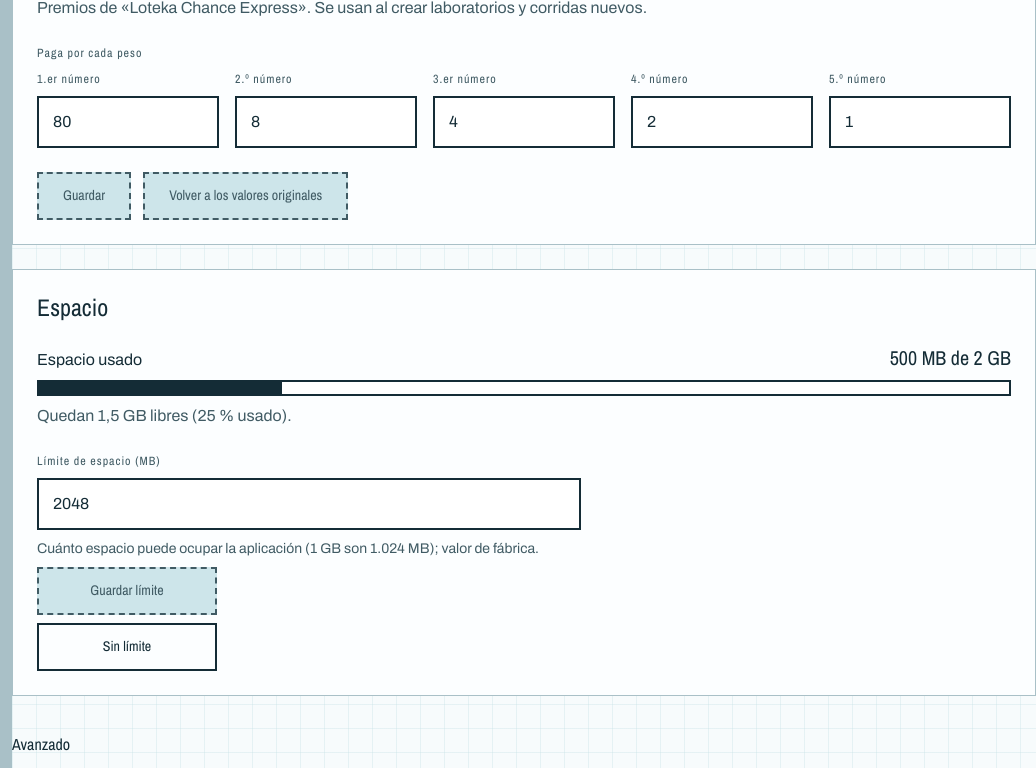
Test: settings page › rejects invalid quota drafts without sending and never claims success on network failure
(page scrolled)
Replace the text in the field labelled "Límite de espacio (MB)" with "abc" at [309, 504], box 37,478 -> 581,530
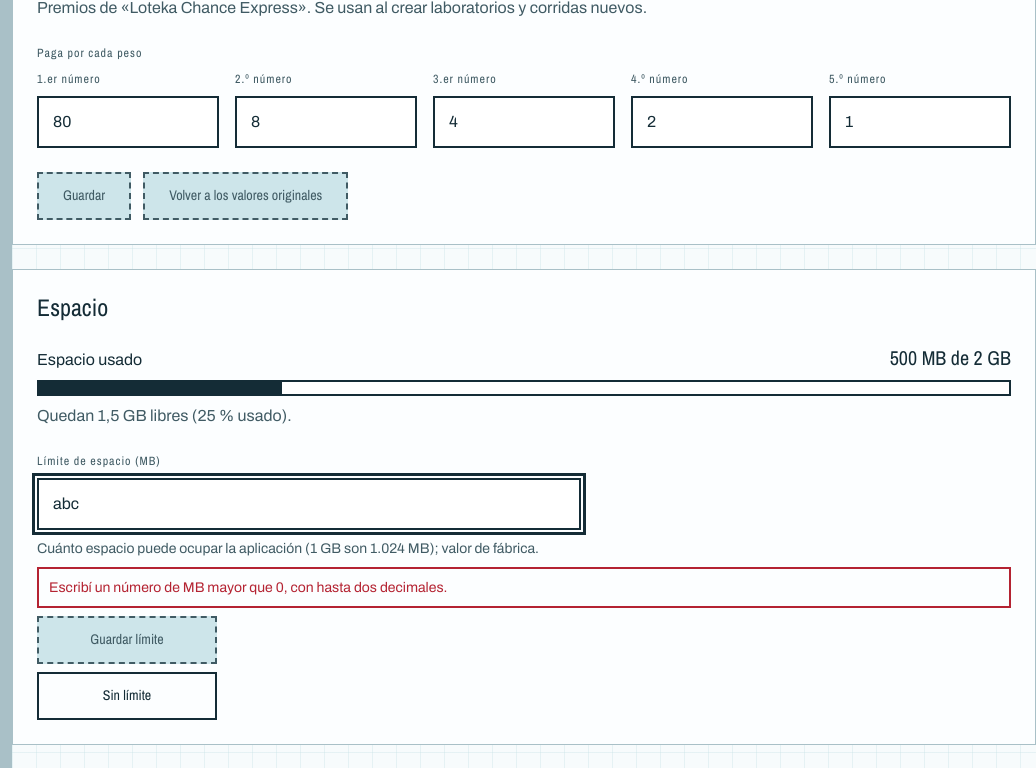
Expected: the button "Guardar límite" is disabled, 37,616 -> 217,664
Expected: the text "Escribí un número de MB mayor que 0, con hasta dos decimales." is shown, 37,567 -> 1011,608
Replace the text in the field labelled "Límite de espacio (MB)" with "1234" at [309, 504], box 37,478 -> 581,530
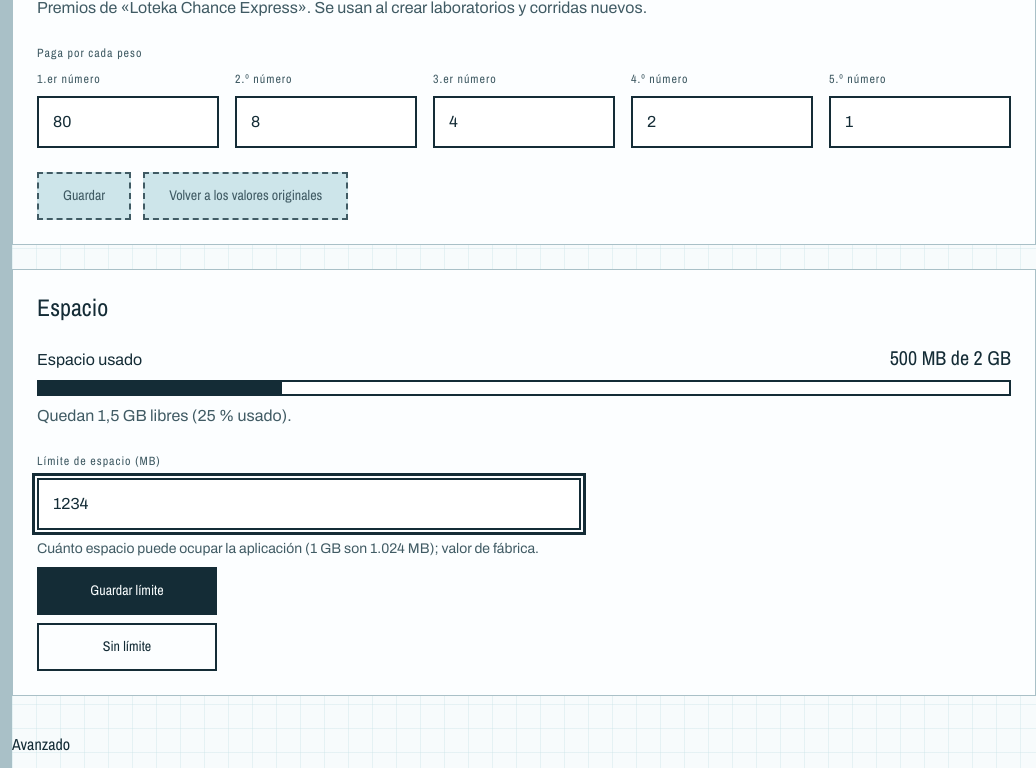
Click the button "Guardar límite" at [127, 591], box 37,567 -> 217,615
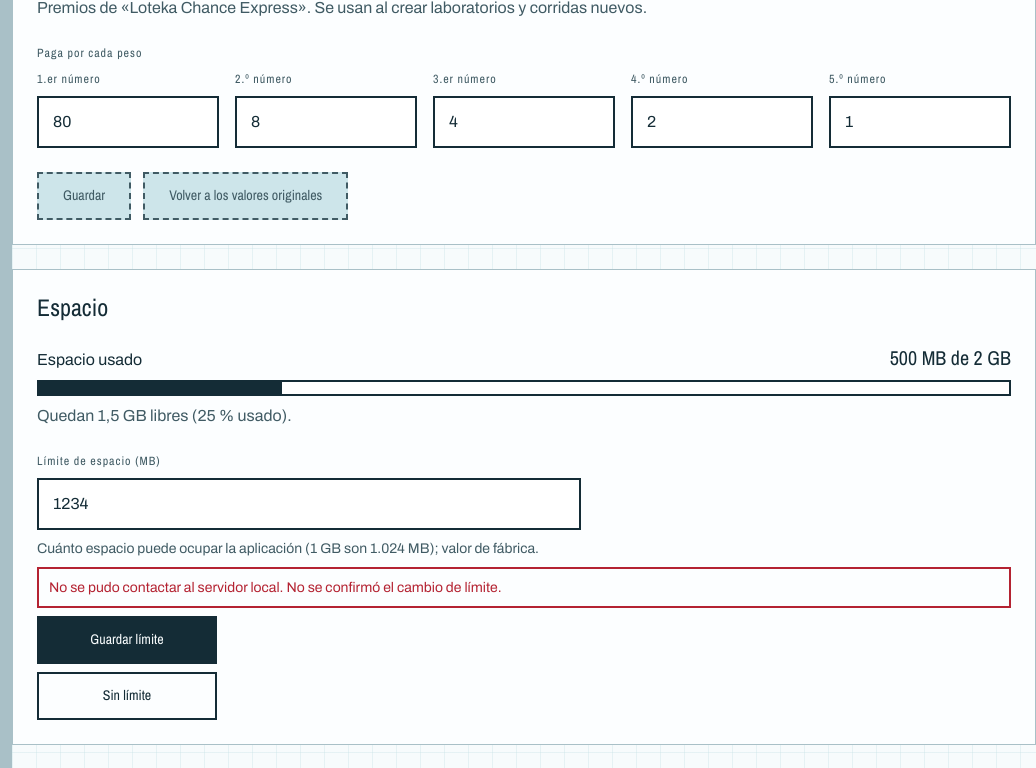
Expected: the message shows "No se pudo contactar al servidor local", 49,580 -> 502,595
